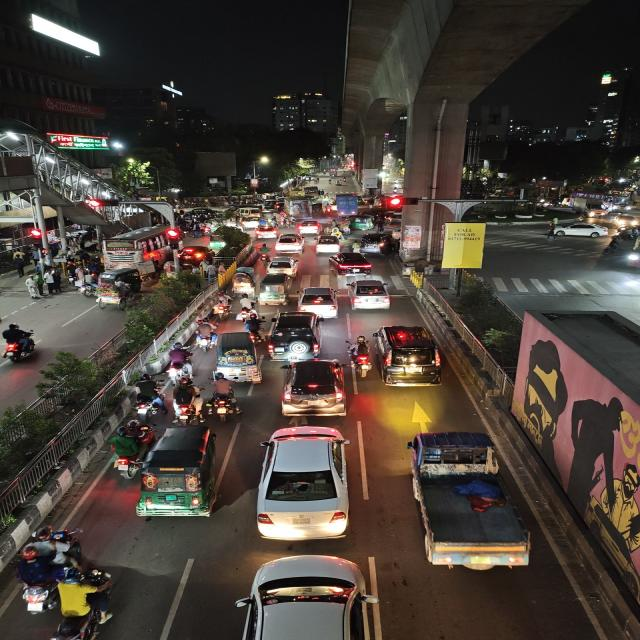bus: (254, 424, 358, 542), (103, 228, 173, 270), (285, 200, 311, 219)
car: (233, 553, 389, 640), (254, 424, 357, 542), (372, 322, 446, 391), (278, 357, 350, 418), (266, 310, 324, 362), (347, 278, 392, 313), (297, 285, 339, 321), (552, 219, 608, 241), (327, 252, 374, 278), (358, 233, 391, 255), (264, 257, 299, 277), (273, 234, 306, 254), (179, 244, 212, 264), (314, 234, 342, 254), (295, 218, 322, 234), (613, 213, 639, 227), (254, 225, 278, 239)
cng: (136, 422, 224, 524), (266, 310, 323, 362), (215, 331, 263, 385), (256, 273, 290, 307), (349, 211, 380, 233)
motorcycle: (50, 569, 117, 640), (102, 422, 147, 482), (38, 526, 86, 576), (127, 372, 166, 421), (208, 372, 242, 422), (0, 323, 39, 365), (346, 334, 374, 380), (162, 342, 196, 378), (171, 378, 200, 418), (190, 317, 219, 353), (211, 292, 234, 319), (238, 297, 258, 321), (256, 244, 271, 262)
pedestrian: (25, 272, 45, 300), (43, 267, 62, 296), (11, 249, 26, 277), (542, 220, 558, 242)
pickup_van: (404, 425, 538, 577)
rickshaw: (94, 267, 143, 310), (230, 268, 255, 296)
truck: (331, 192, 361, 216), (574, 198, 605, 218)
